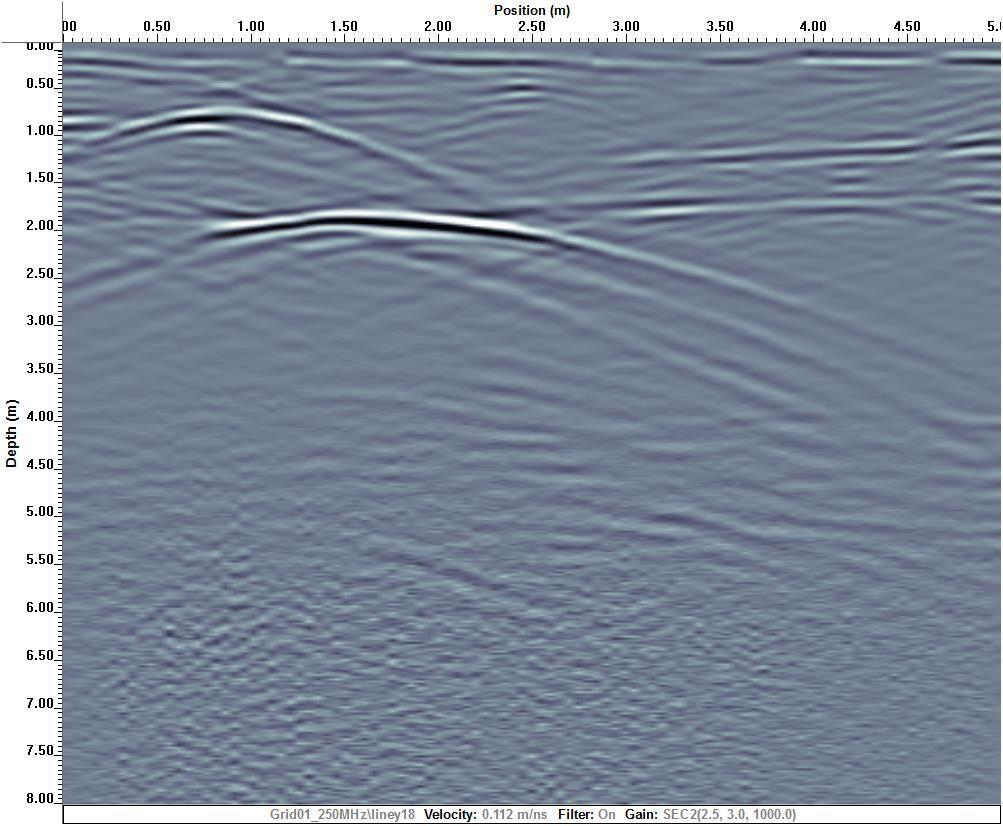hyperbola: (64, 212, 835, 331), (62, 100, 479, 182)
